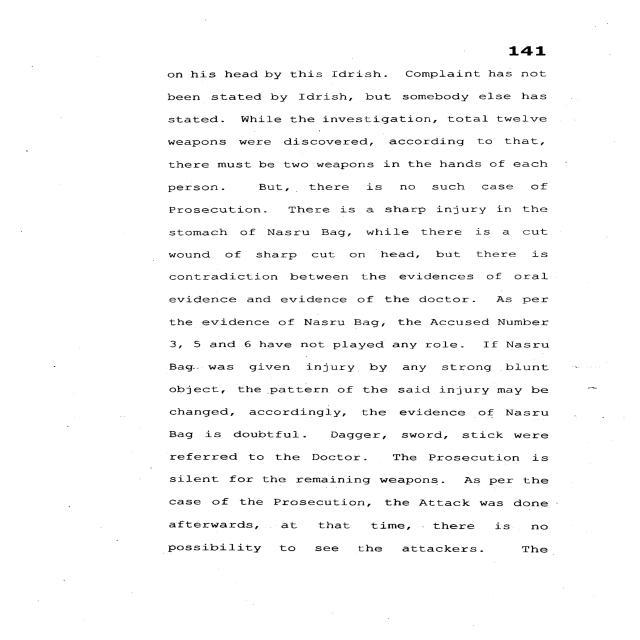page-number: (422, 0, 638, 61)
